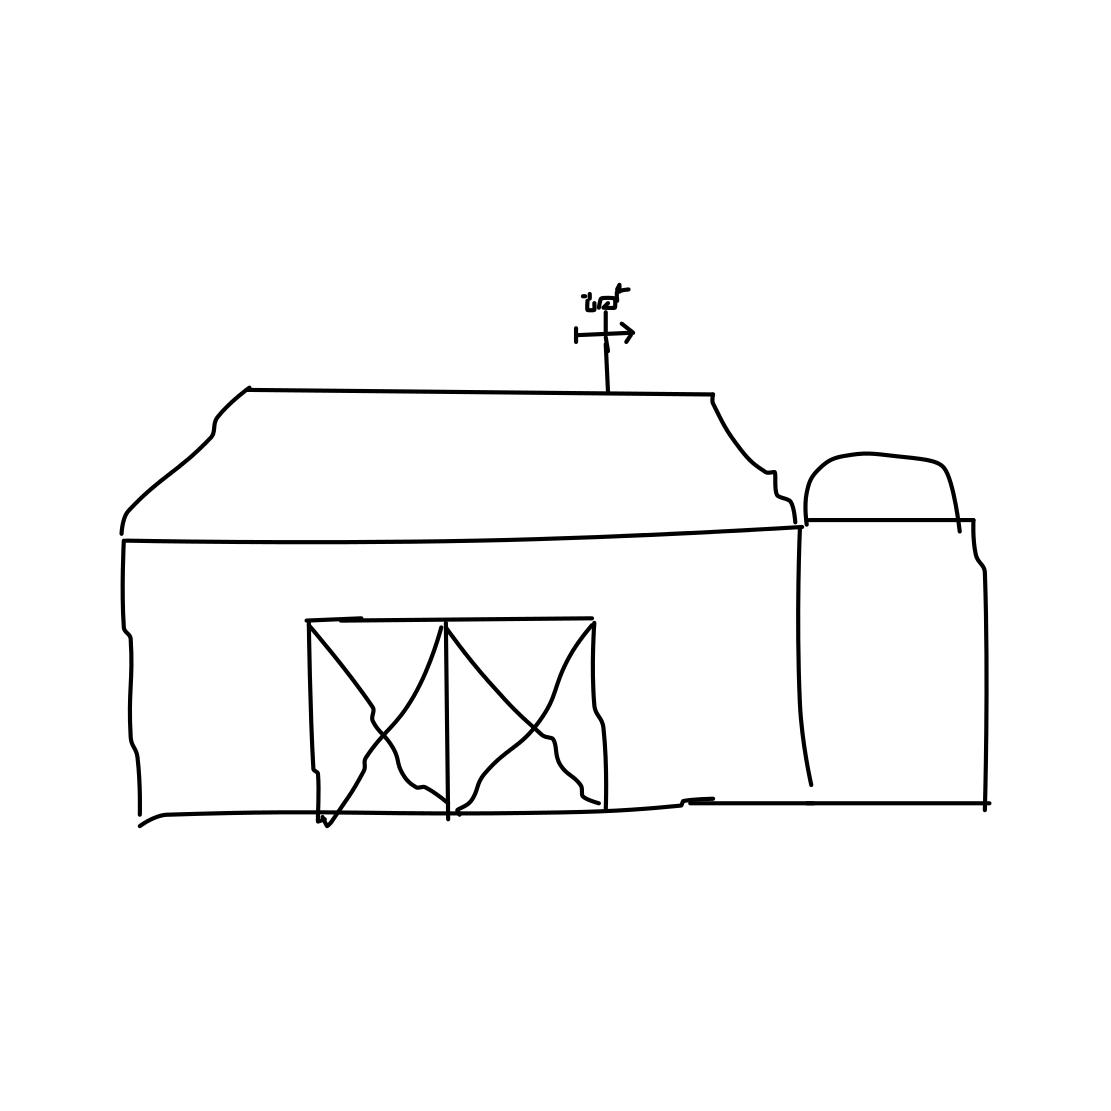House: (99, 286, 1012, 833)
